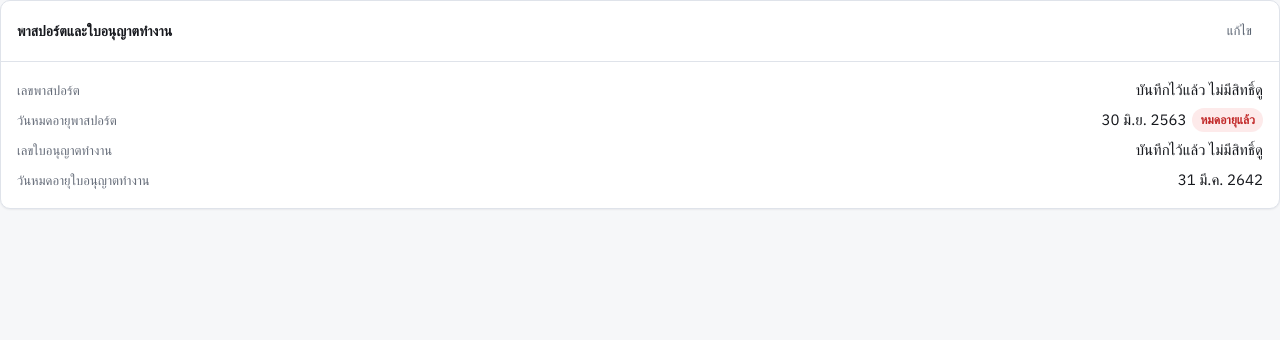
Test: A foreign worker's passport and work permit (CW-068) › lets HR who cannot read the numbers renew a date without clearing them
Later steps or results of the test are not shown.
Expected: the text "บันทึกไว้แล้ว ไม่มีสิทธิ์ดู" is shown 2 times, [1136, 78, 1263, 102]; [1136, 138, 1263, 162]
Click the button "แก้ไข". click: (1239, 31)
box: [1216, 15, 1263, 47]
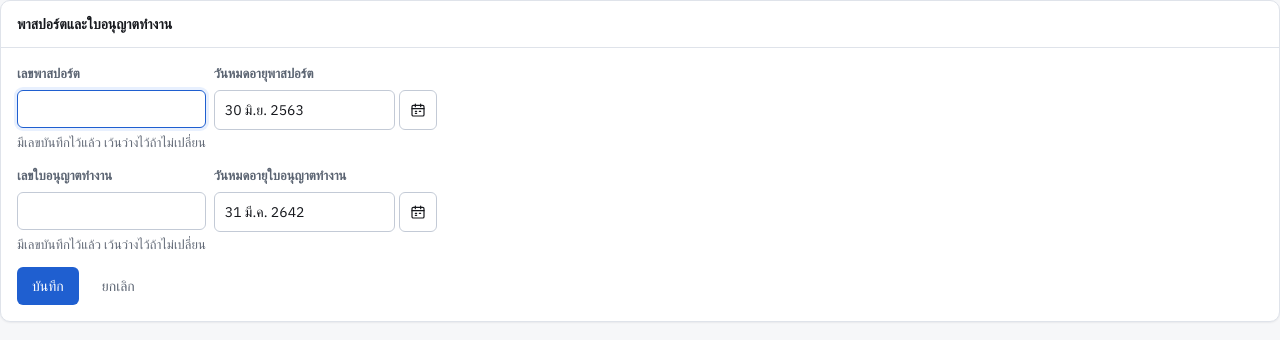
Expected: the field labelled "เลขพาสปอร์ต" is empty, [17, 90, 206, 128]
Expected: the text "มีเลขบันทึกไว้แล้ว เว้นว่างไว้ถ้าไม่เปลี่ยน" below "เลขพาสปอร์ต" is shown, [17, 134, 206, 151]
